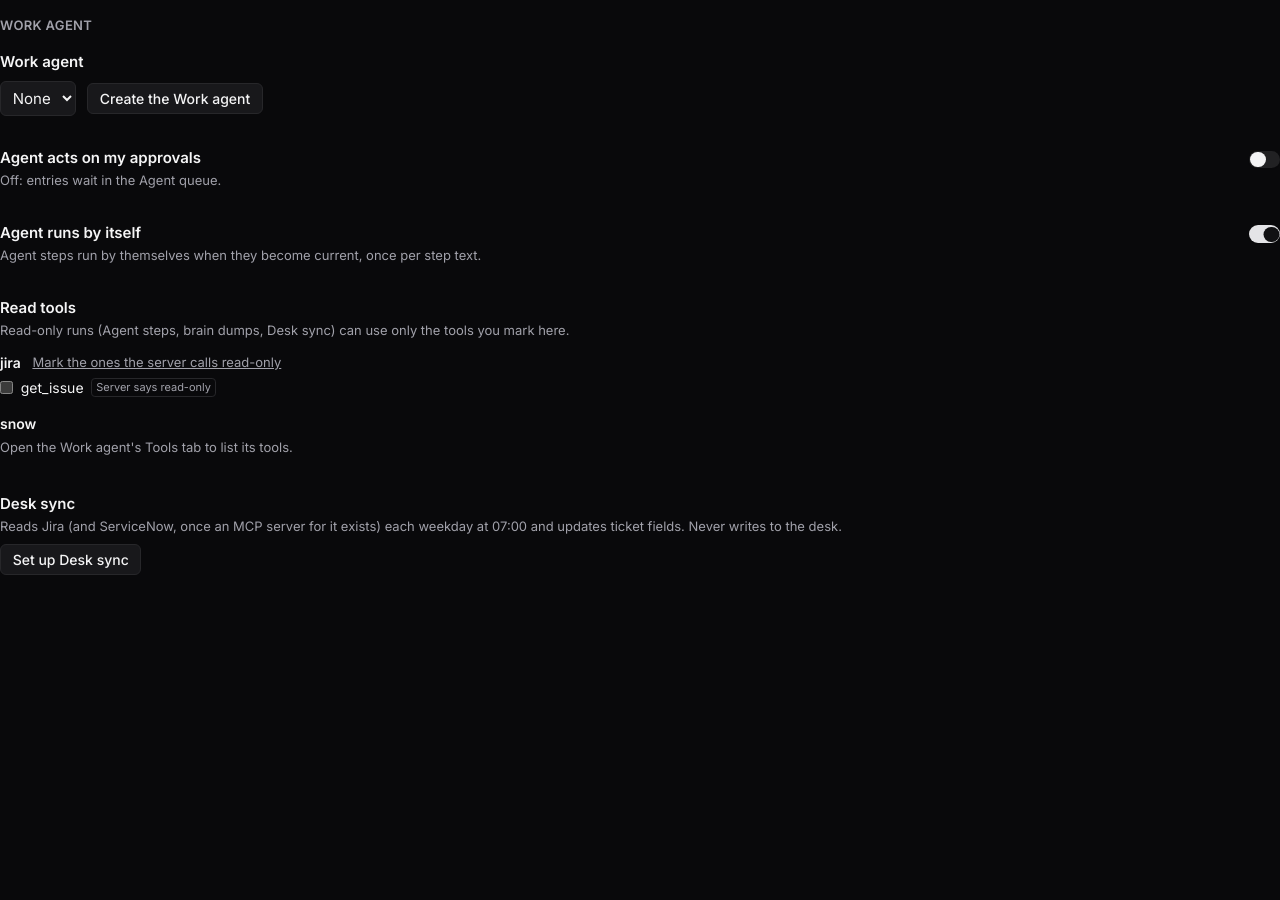
Test case: WorkAgentSettings › test the acts switch with no work agent opens the dialog instead of saving
Click the switch named "Agent acts on my approvals".
click(1264, 159)  # box [1249,150,1279,168]
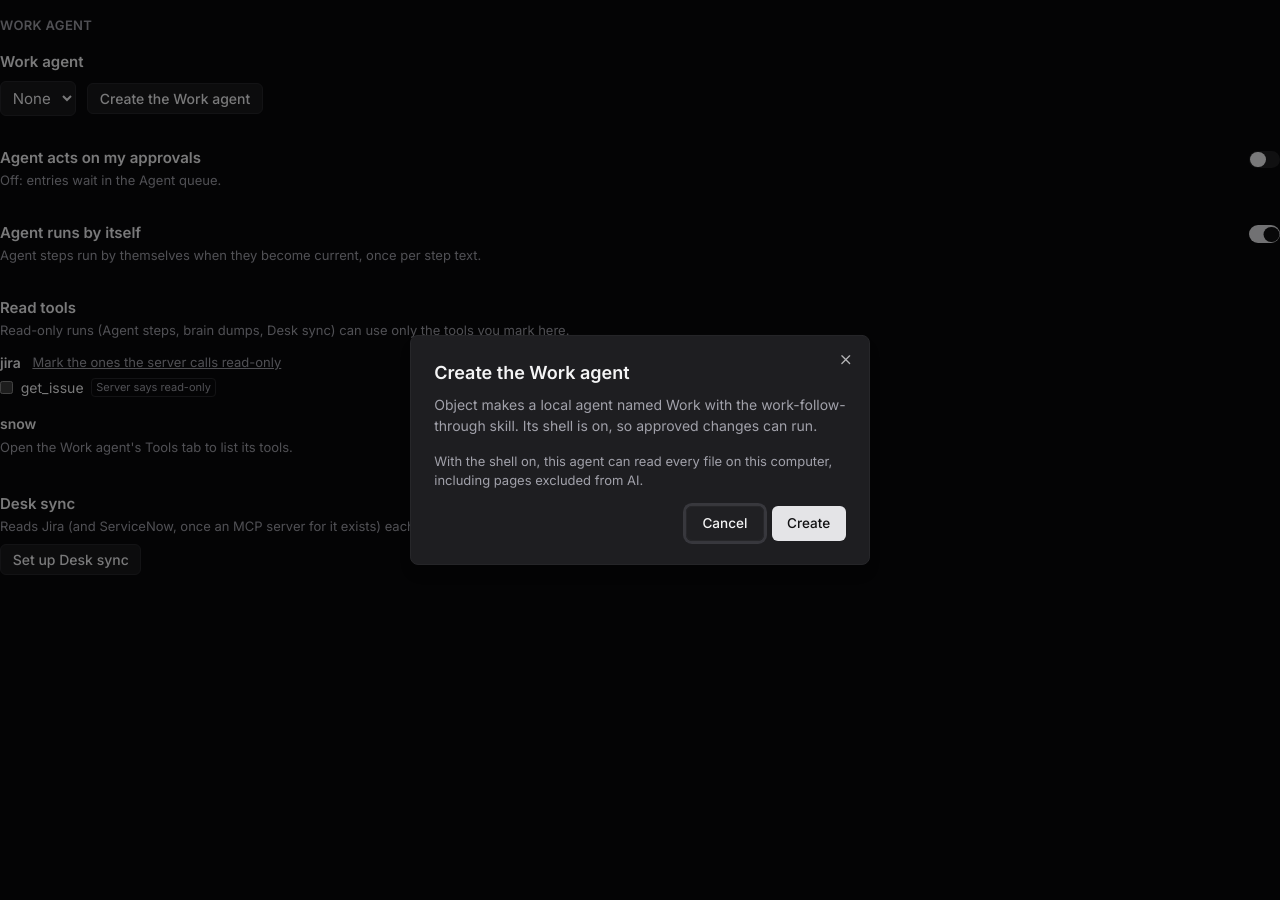
Now the text "With the shell on, this agent can read every file on this computer, including pages excluded from AI." is shown, box [434,452,832,488]
